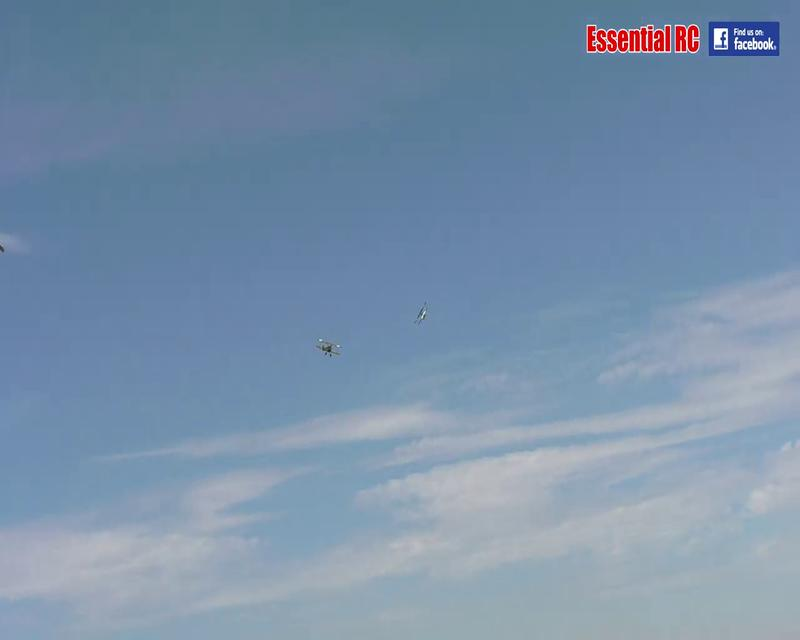UAV: (585, 22, 700, 54), (315, 335, 343, 359), (412, 301, 432, 326)
